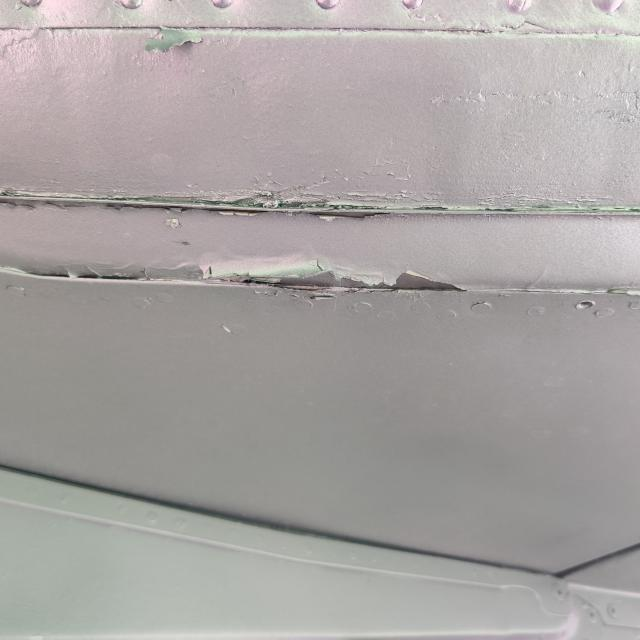paint-off: (236, 260, 478, 300)
